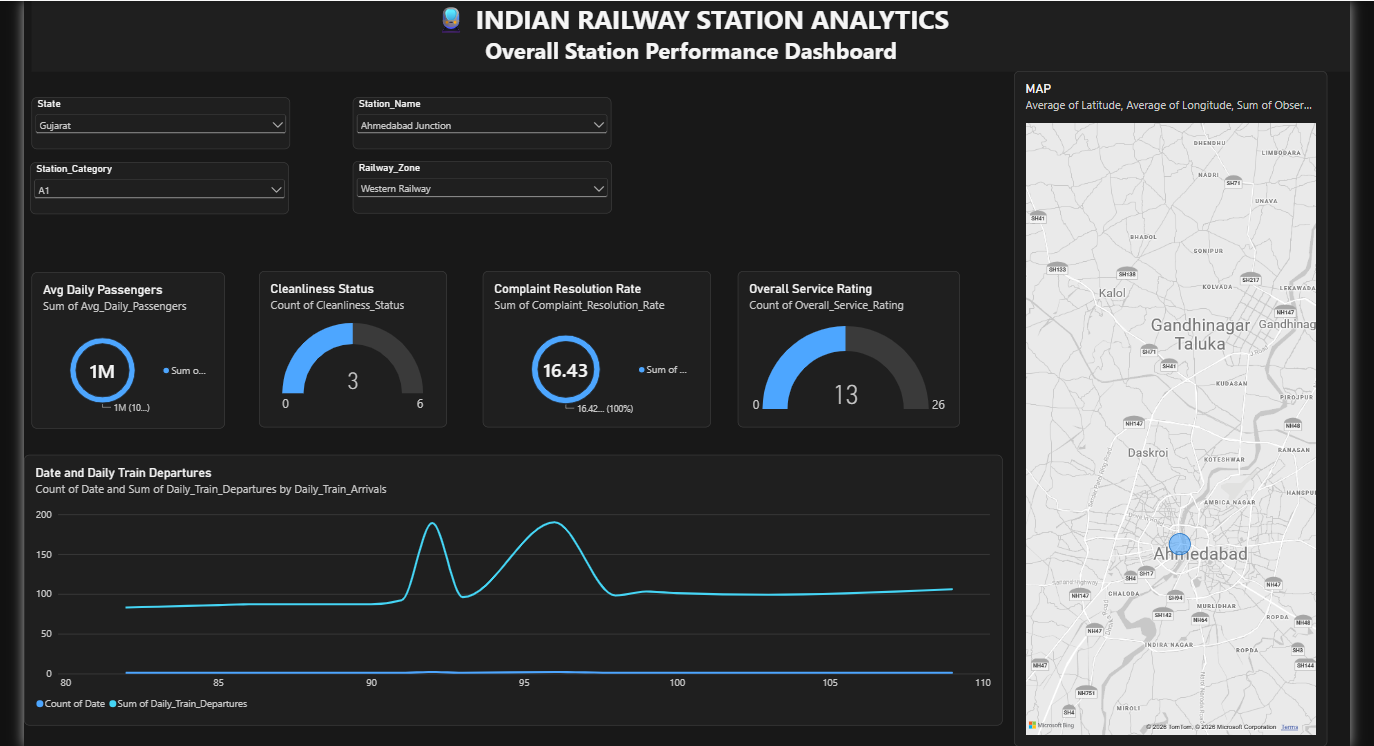

What the dashboard file says about the page in this screenshot:
{"tool":"powerbi","page":{"name":"Overall Dashboard","canvas":[1920,1080],"ordinal":0},"visuals":[{"type":"textbox","box":[10.2,0,1909.8,102.1],"z":0},{"type":"slicer","fields":{"Values":["Station_Monthly_Data.State"]},"box":[10.8,138.9,374.7,74.9],"z":1000},{"type":"slicer","fields":{"Values":["Station_Monthly_Data.Station_Name"]},"box":[475.4,138.9,374.7,74.9],"z":2000},{"type":"slicer","fields":{"Values":["Station_Monthly_Data.Railway_Zone"]},"box":[475.4,231.5,375,75.6],"z":3000},{"type":"slicer","fields":{"Values":["Station_Monthly_Data.Station_Category"]},"box":[9.3,233.1,374.7,74.9],"z":4000},{"type":"lineChart","title":"Date and Daily Train Departures","fields":{"Category":["Station_Monthly_Data.Daily_Train_Arrivals"],"Y":["CountNonNull(Station_Monthly_Data.Date)","Sum(Station_Monthly_Data.Daily_Train_Departures)"]},"box":[0,656.4,1416.8,392],"z":5000},{"type":"map","title":"MAP","fields":{"Category":["Station_Monthly_Data.City","Station_Monthly_Data.State"],"Size":["Sum(Station_Monthly_Data.Observation_Month)"],"X":["Avg(Station_Monthly_Data.Longitude)"],"Y":["Avg(Station_Monthly_Data.Latitude)"]},"box":[1433.8,101.9,453.8,978.5],"z":6000},{"type":"donutChart","title":"Avg Daily Passengers","fields":{"Y":["Sum(Station_Monthly_Data.Avg_Daily_Passengers)"]},"box":[10,392,280,226],"z":7000},{"type":"gauge","title":"Cleanliness Status","fields":{"Y":["Count(Station_Monthly_Data.Cleanliness_Status)"]},"box":[340,391.7,271.7,226.7],"z":8000},{"type":"donutChart","title":"Complaint Resolution Rate","fields":{"Y":["Sum(Station_Monthly_Data.Complaint_Resolution_Rate)"]},"box":[663.3,391.7,330,226.7],"z":9000},{"type":"gauge","title":"Overall Service Rating","fields":{"Y":["Count(Station_Monthly_Data.Overall_Service_Rating)"]},"box":[1033.3,391.7,321.7,226.7],"z":10000}]}

Visuals, with their boxes on the page's 1920x1080 design canvas (x1, y1, x2, y2). These are canvas units, not pixel positions in the 1374x746 screenshot, which may show the page scaled, cropped or inside an application window:
textbox: x1=10, y1=0, x2=1920, y2=102
slicer - Station_Monthly_Data.State: x1=11, y1=139, x2=386, y2=214
slicer - Station_Monthly_Data.Station_Name: x1=475, y1=139, x2=850, y2=214
slicer - Station_Monthly_Data.Railway_Zone: x1=475, y1=232, x2=850, y2=307
slicer - Station_Monthly_Data.Station_Category: x1=9, y1=233, x2=384, y2=308
"Date and Daily Train Departures" lineChart: x1=0, y1=656, x2=1417, y2=1048
"MAP" map: x1=1434, y1=102, x2=1888, y2=1080
"Avg Daily Passengers" donutChart: x1=10, y1=392, x2=290, y2=618
"Cleanliness Status" gauge: x1=340, y1=392, x2=612, y2=618
"Complaint Resolution Rate" donutChart: x1=663, y1=392, x2=993, y2=618
"Overall Service Rating" gauge: x1=1033, y1=392, x2=1355, y2=618
